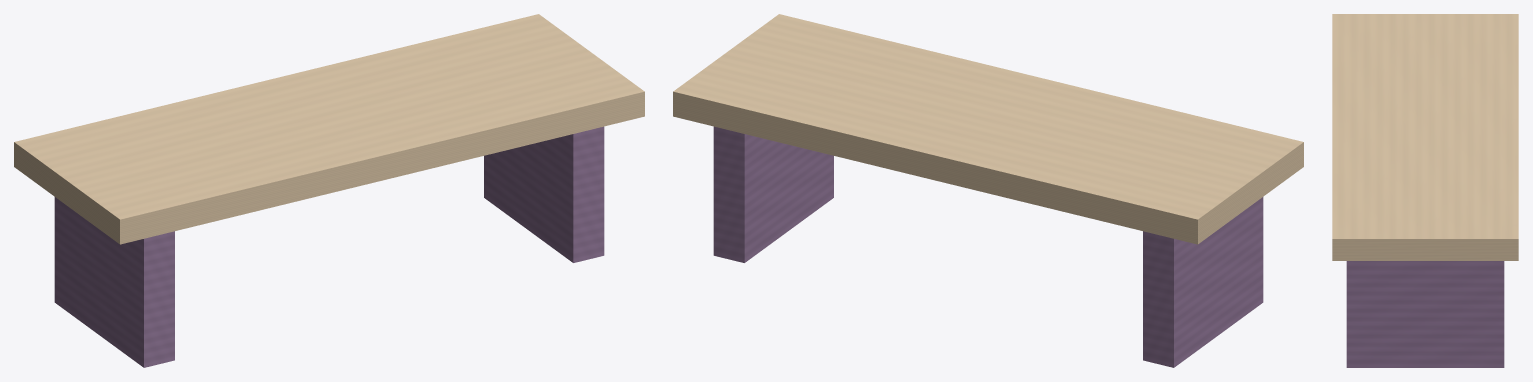
File: atlas100-papercraft-util03.lod2.glb
3 renders of one model, left to right at view 1: azimuth 30°, elevation 25°; view 2: azimuth 150°, elevation 25°; view 3: azimuth 270°, elevation 25°, orthographic. The views are drawn at different scales.
Parts seen in each view (by area): view 1: atlas100-papercraft-util03:part-002, atlas100-papercraft-util03:part-000, atlas100-papercraft-util03:part-001; view 2: atlas100-papercraft-util03:part-002, atlas100-papercraft-util03:part-000, atlas100-papercraft-util03:part-001; view 3: atlas100-papercraft-util03:part-002, atlas100-papercraft-util03:part-001.
Boxes of the visible parts, <box> form: atlas100-papercraft-util03:part-002: <box>14,14,644,244</box>; atlas100-papercraft-util03:part-000: <box>54,197,174,367</box>; atlas100-papercraft-util03:part-001: <box>484,126,604,262</box>; atlas100-papercraft-util03:part-002: <box>673,14,1303,244</box>; atlas100-papercraft-util03:part-000: <box>1143,197,1263,367</box>; atlas100-papercraft-util03:part-001: <box>713,126,833,262</box>; atlas100-papercraft-util03:part-002: <box>1332,14,1518,260</box>; atlas100-papercraft-util03:part-001: <box>1346,261,1504,367</box>.
Bounding box in the file's own units: 2.5 × 0.7397 × 0.8763.
2 materials, 2 textured.
